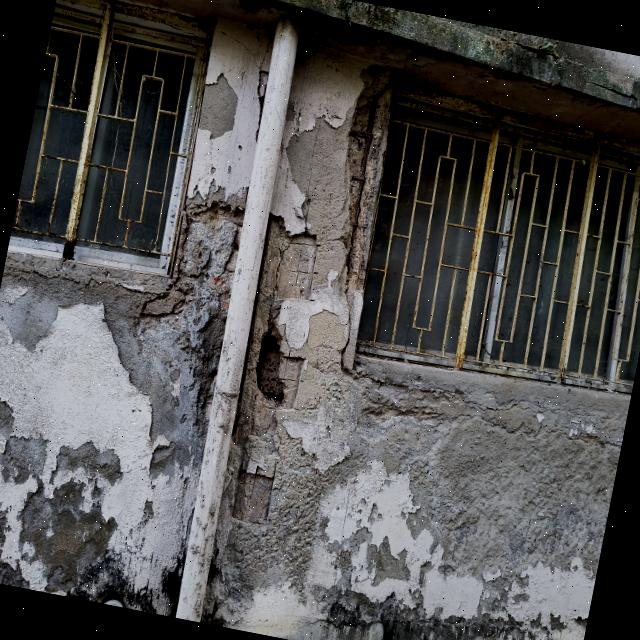crack: (581, 76, 640, 107)
peeling: (223, 33, 628, 627), (0, 204, 246, 611)
spalling: (236, 202, 328, 536), (326, 70, 398, 380)
stain_mould: (10, 0, 220, 281), (266, 0, 640, 114), (396, 68, 640, 162), (128, 170, 256, 332), (400, 69, 640, 154), (450, 127, 504, 369)
